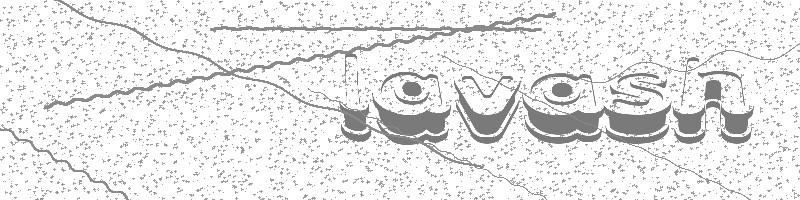a: (522, 72, 605, 145), (372, 70, 451, 145)
h: (673, 56, 754, 145)
l: (334, 49, 371, 143)
s: (605, 72, 672, 144)
v: (452, 71, 523, 144)
